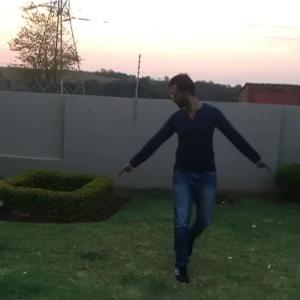land: (115, 69, 281, 285)
